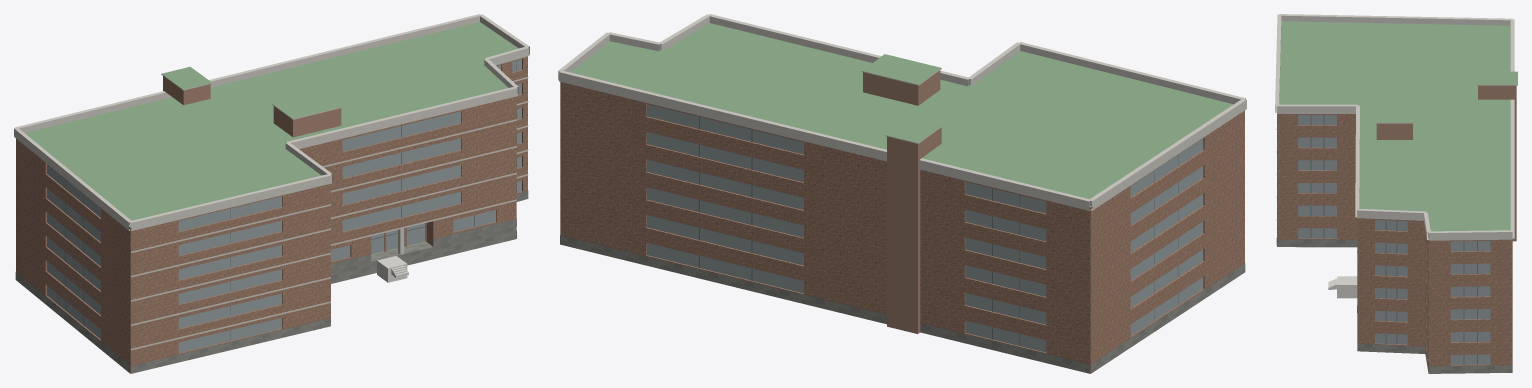
3 views of the same model, side by side, from view 1: azimuth 30°, elevation 25°; view 2: azimuth 150°, elevation 25°; view 3: azimuth 270°, elevation 25° (orthographic). The views are drawn at different scales.
Parts seen in each view (by area): view 1: b942__wall, b942__roof, b942__glass, b942__trim, b942__base, b942__wall2, b942__entranceStair; view 2: b942__wall, b942__roof, b942__glass, b942__trim, b942__wall2, b942__base; view 3: b942__roof, b942__wall, b942__glass, b942__trim, b942__base, b942__wall2, b942__frame, b942__entranceStair.
Boxes of the visible parts, x1,y1,x2,y2 form: b942__wall: (16, 56, 527, 373); b942__roof: (25, 22, 518, 283); b942__glass: (47, 59, 521, 352); b942__trim: (14, 14, 529, 350); b942__base: (15, 190, 528, 373); b942__wall2: (163, 76, 341, 137); b942__entranceStair: (377, 256, 408, 282); b942__wall: (560, 82, 1244, 373); b942__roof: (570, 23, 1233, 207); b942__glass: (646, 104, 1203, 352); b942__trim: (558, 14, 1246, 210); b942__wall2: (863, 70, 941, 333); b942__base: (560, 235, 1245, 373); b942__roof: (1279, 21, 1517, 373); b942__wall: (1277, 114, 1512, 373); b942__glass: (1298, 115, 1490, 364); b942__trim: (1275, 14, 1517, 349); b942__base: (1276, 238, 1512, 373); b942__wall2: (1376, 85, 1516, 241); b942__frame: (1310, 115, 1477, 364); b942__entranceStair: (1328, 276, 1357, 298).
Size of the model in its own units: 74.55 by 25.17 by 34.91.
Materials: 10 (2 with a texture image).
